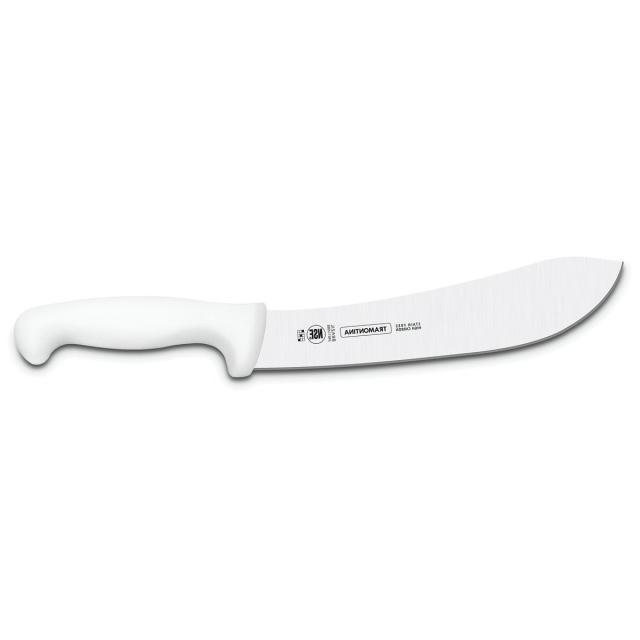knife: (9, 250, 631, 386)
